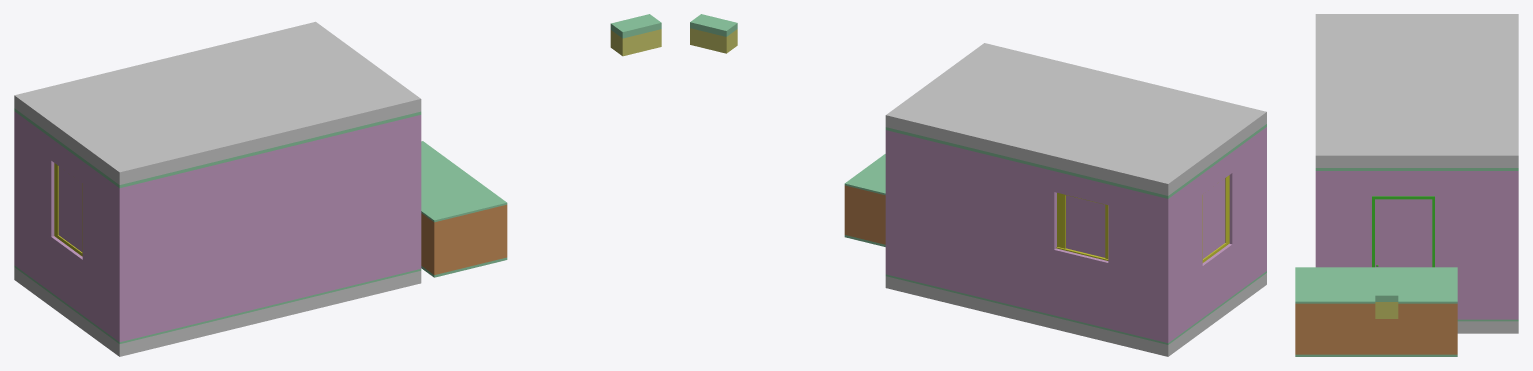
File: FloorPlan11_physics.fbx
3 views of the same model, side by side, from view 1: azimuth 30°, elevation 25°; view 2: azimuth 150°, elevation 25°; view 3: azimuth 270°, elevation 25° (orthographic). The views are drawn at different scales.
Parts seen in each view (by area): view 1: StandardWallSize, Ceiling, StandardIslandHeight1, Floor, StandardUpperCabinetWindow, StandardWindowPane1; view 2: StandardWallSize, Ceiling, Floor, StandardIslandHeight1, StandardWindowPane2, StandardUpperCabinetWindow, StandardWindowPane1, WindowTreatment1 (2), StandardWindow1 (2); view 3: Ceiling, StandardWallSize, StandardIslandHeight1, StandardUpperCabinetWindow, Floor, StandardDoorFrame1.
Boxes of the visible parts, bbox=[...] form: StandardWallSize: bbox=[14, 108, 421, 343]; Ceiling: bbox=[14, 21, 421, 184]; StandardIslandHeight1: bbox=[421, 141, 507, 277]; Floor: bbox=[14, 267, 421, 356]; StandardUpperCabinetWindow: bbox=[610, 14, 661, 56]; StandardWindowPane1: bbox=[58, 166, 82, 251]; StandardWallSize: bbox=[885, 124, 1266, 344]; Ceiling: bbox=[885, 43, 1266, 195]; Floor: bbox=[885, 273, 1266, 356]; StandardIslandHeight1: bbox=[844, 154, 885, 246]; StandardWindowPane2: bbox=[1066, 195, 1105, 257]; StandardUpperCabinetWindow: bbox=[690, 14, 737, 53]; StandardWindowPane1: bbox=[1203, 178, 1225, 258]; WindowTreatment1 (2): bbox=[1056, 193, 1108, 260]; StandardWindow1 (2): bbox=[1062, 194, 1108, 258]; Ceiling: bbox=[1315, 14, 1518, 167]; StandardWallSize: bbox=[1315, 168, 1518, 321]; StandardIslandHeight1: bbox=[1295, 267, 1457, 356]; StandardUpperCabinetWindow: bbox=[1375, 277, 1398, 318]; Floor: bbox=[1457, 321, 1518, 333]; StandardDoorFrame1: bbox=[1372, 196, 1434, 267].
Size of the model in its own units: 942 by 290 by 330.
